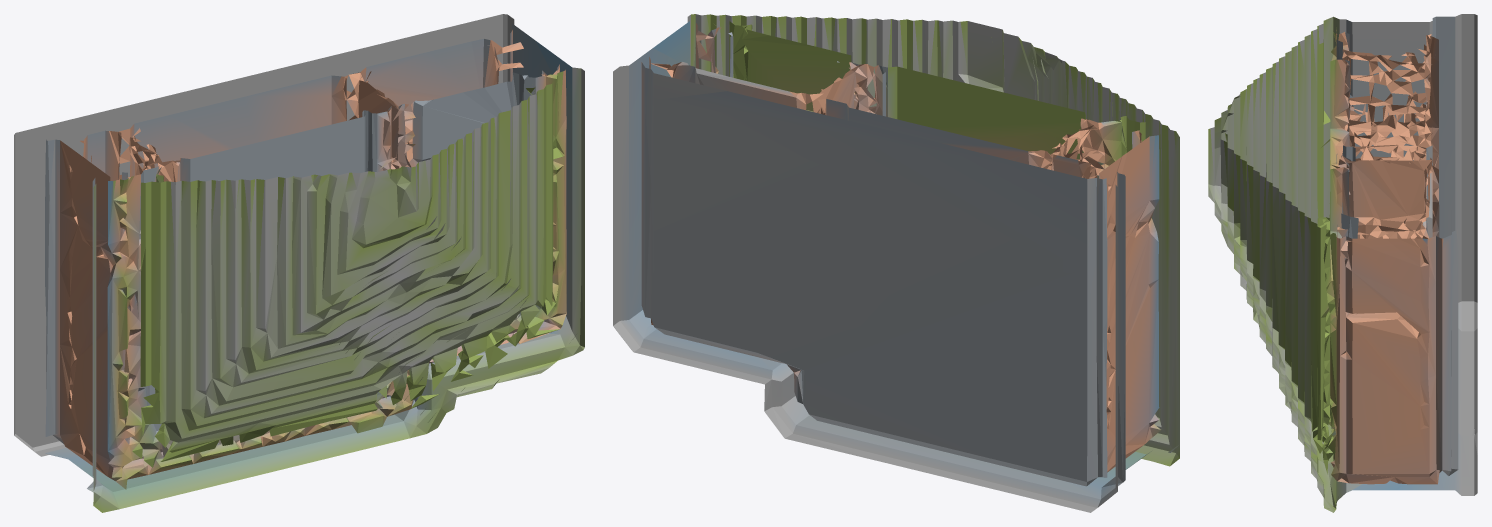
The model's file is ref_v11_pa_cutaway.glb.
The picture shows the model from 3 angles, left to right: view 1: azimuth 30°, elevation 25°; view 2: azimuth 150°, elevation 25°; view 3: azimuth 270°, elevation 25°; orthographic projection. The views are drawn at different scales.
Parts seen in each view (by area): view 1: world; view 2: world; view 3: world.
Boxes of the visible parts, box(x1,y1,x2,y2) form: world: box(14, 14, 584, 512); world: box(613, 14, 1179, 512); world: box(1208, 14, 1477, 512).
Bounding box in the file's own units: 85 × 54.01 × 42.
